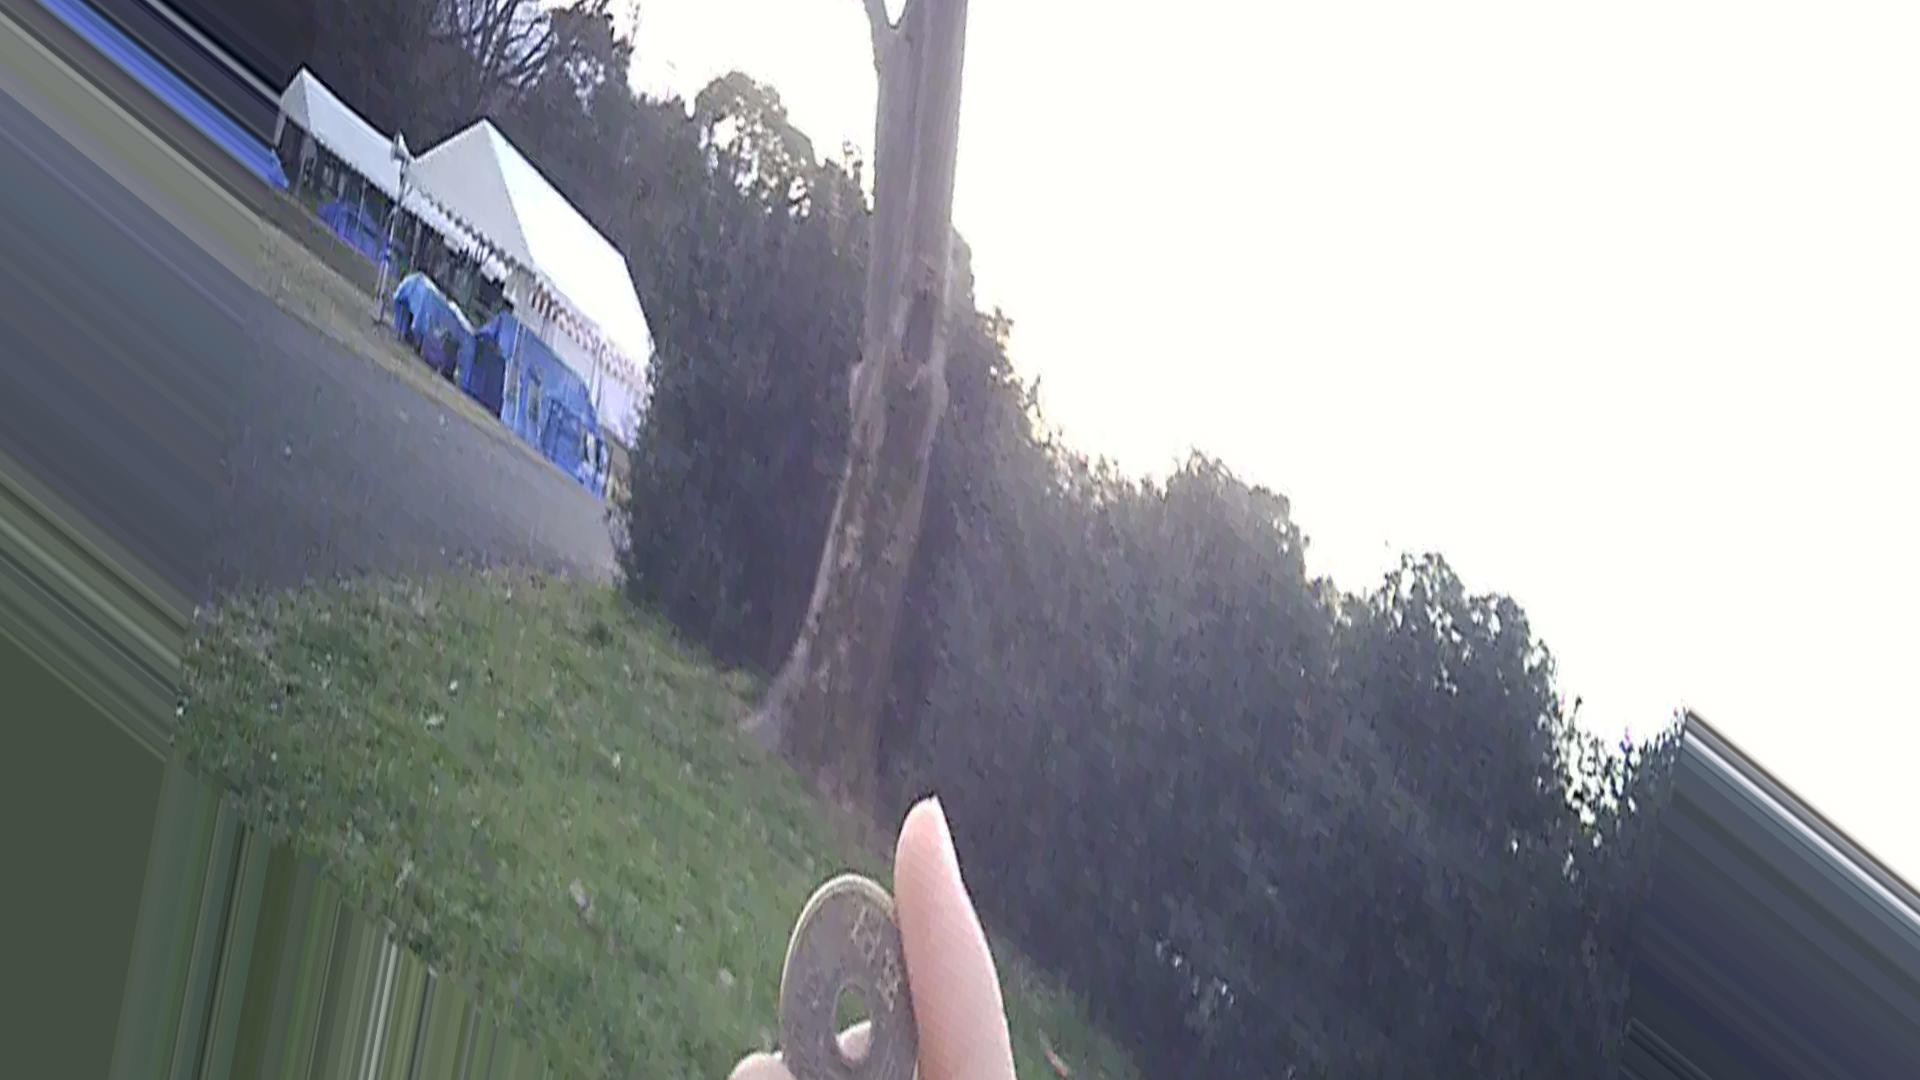5 Yen: (770, 868, 949, 1075)
